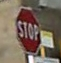stop: (13, 3, 41, 56)
